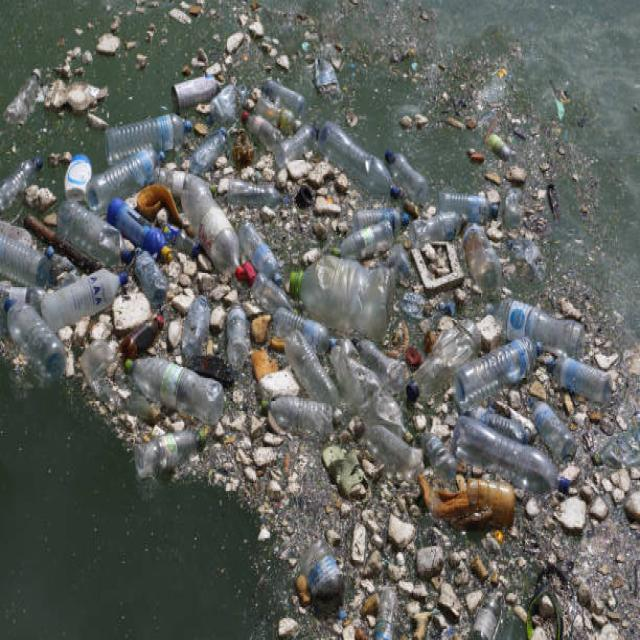plastic: (16, 141, 542, 474)
